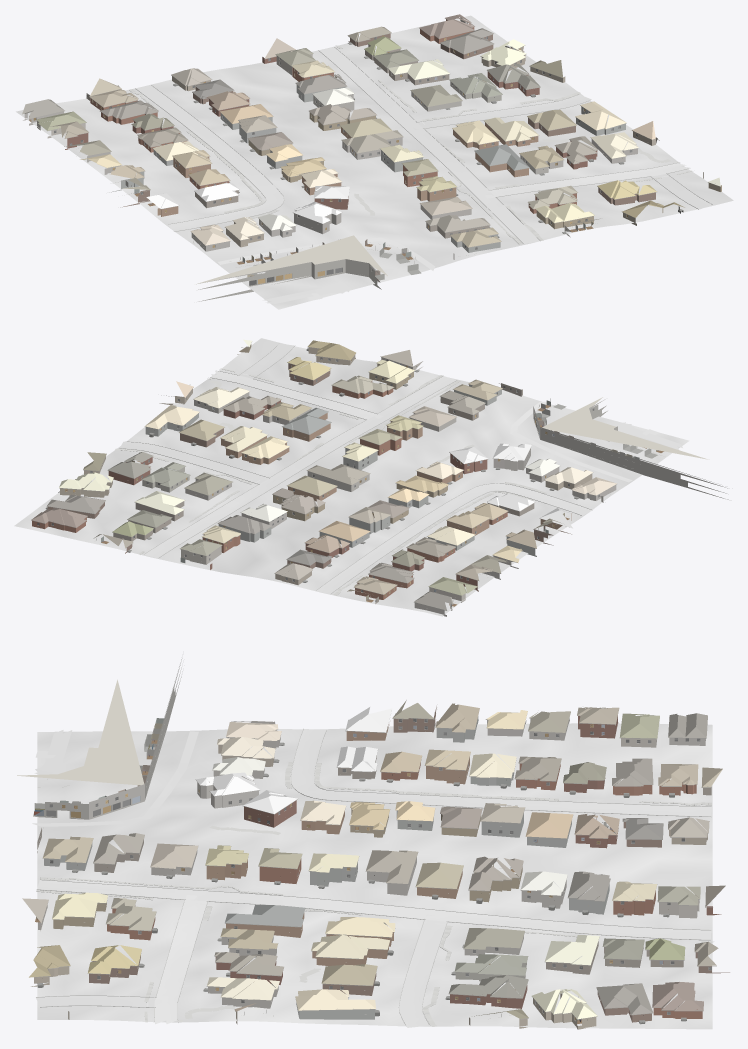
The picture shows the model from 3 angles, top to bottom: view 1: azimuth 30°, elevation 25°; view 2: azimuth 150°, elevation 25°; view 3: azimuth 270°, elevation 25°; orthographic projection. The views are drawn at different scales.
Parts seen in each view (by area): view 1: ground, roof, concrete, wall, detail, wall_stone, wall_stucco, roof_flat, curb, wall_com, walk, room (+2 smaller); view 2: ground, roof, concrete, wall, detail, wall_stucco, wall_stone, wall_com, curb, roof_flat, walk, room (+1 smaller); view 3: ground, roof, concrete, wall, detail, wall_stucco, wall_stone, curb, roof_flat, walk, wall_com, glass (+2 smaller).
Boxes of the visible parts, box(x1,y1,x2,y2) form: ground: box(16, 15, 733, 309); roof: box(22, 14, 720, 247); concrete: box(136, 47, 712, 303); wall: box(65, 19, 721, 259); detail: box(29, 17, 720, 285); wall_stone: box(23, 92, 637, 251); wall_stucco: box(37, 54, 657, 252); roof_flat: box(196, 235, 387, 284); curb: box(129, 47, 712, 243); wall_com: box(198, 259, 381, 301); walk: box(129, 45, 692, 244); room: box(29, 38, 593, 284); ground: box(14, 338, 689, 616); roof: box(31, 339, 616, 610); concrete: box(120, 343, 682, 593); wall: box(32, 344, 592, 603); detail: box(31, 342, 661, 610); wall_stucco: box(142, 357, 603, 602); wall_stone: box(185, 392, 616, 616); wall_com: box(533, 399, 728, 499); curb: box(119, 343, 591, 594); roof_flat: box(542, 397, 709, 459); walk: box(115, 368, 546, 595); room: box(66, 361, 663, 606); ground: box(37, 723, 712, 1029); roof: box(22, 700, 725, 1019); concrete: box(32, 729, 711, 1027); wall: box(31, 706, 729, 1029); detail: box(34, 710, 716, 1024); wall_stucco: box(38, 716, 699, 1024); wall_stone: box(151, 718, 705, 1008); curb: box(36, 728, 711, 1026); roof_flat: box(17, 679, 144, 785); walk: box(36, 762, 714, 1026); wall_com: box(35, 658, 182, 819); glass: box(39, 718, 711, 1014).
Size of the model in its own units: 316 by 16.65 by 267.
